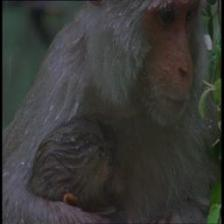monkey: (134, 2, 224, 127), (84, 116, 130, 224)
